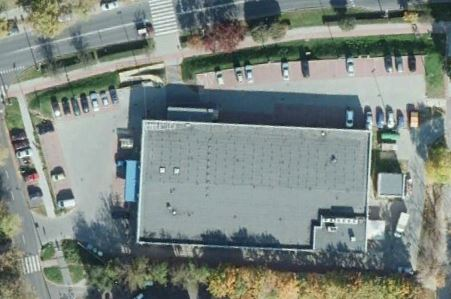shopping_center: (119, 100, 381, 261)
